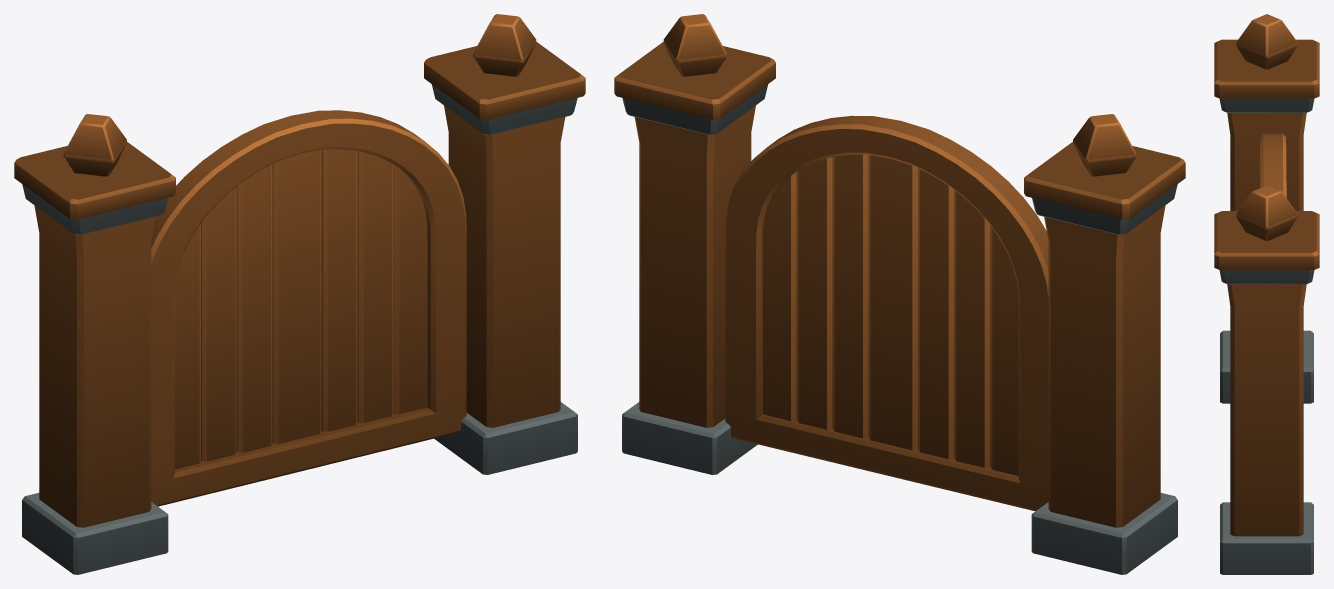
Rendered from Door-1-1.fbx.
3 renders of one model, left to right at view 1: azimuth 30°, elevation 25°; view 2: azimuth 150°, elevation 25°; view 3: azimuth 270°, elevation 25°, orthographic. The views are drawn at different scales.
Parts seen in each view (by area): view 1: Door-1-1; view 2: Door-1-1; view 3: Door-1-1.
Part boxes in pixels (left/top/right/bottom): Door-1-1: left=14, top=14, right=585, bottom=574; Door-1-1: left=614, top=14, right=1185, bottom=574; Door-1-1: left=1214, top=14, right=1319, bottom=574.
Size of the model in its own units: 242 by 190 by 49.72.
